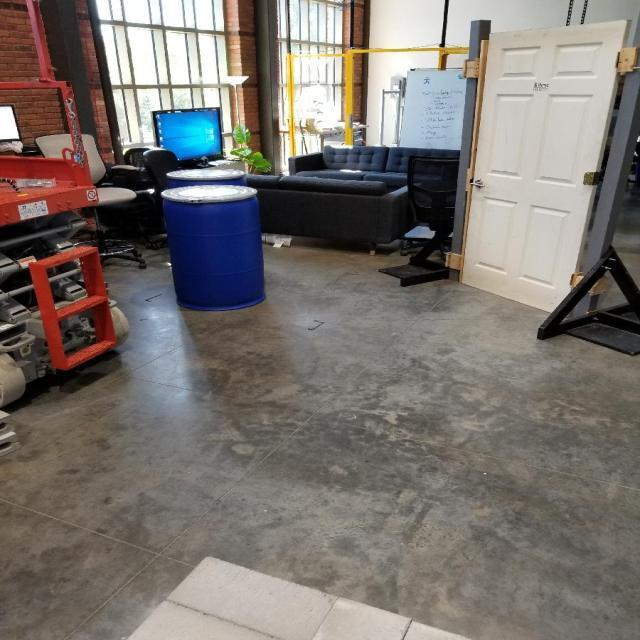door: (458, 18, 635, 323), (466, 178, 495, 194)
